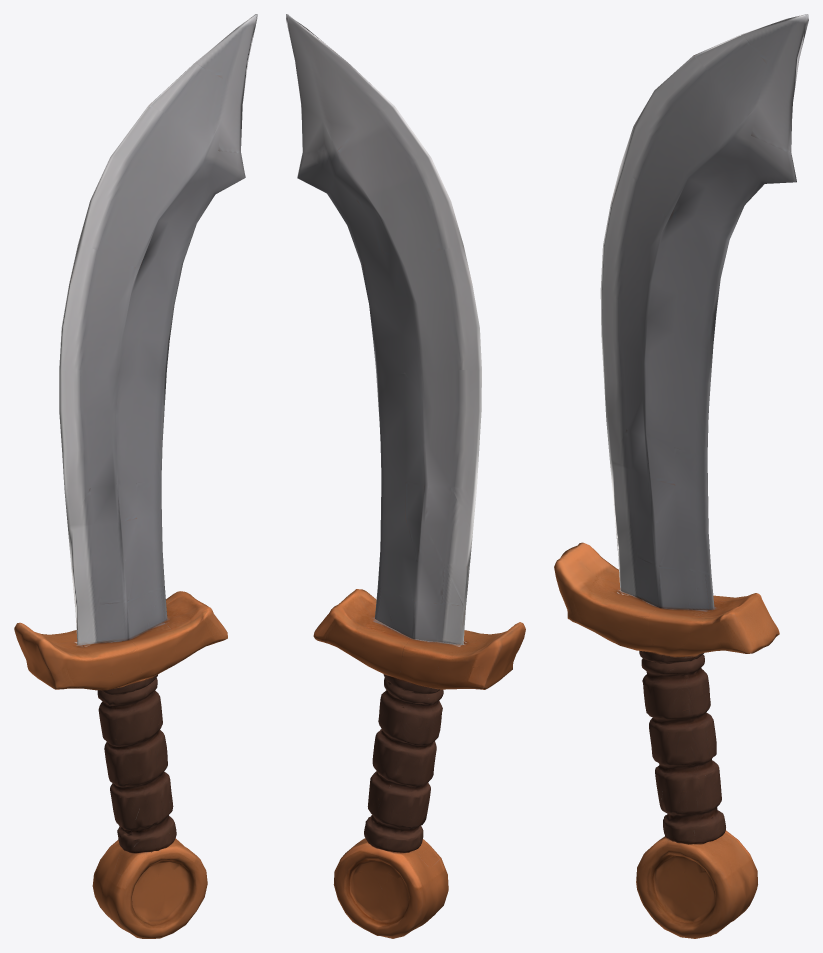
Rendered from 09_猎户弯锋.fbx.
3 renders of one model, left to right at view 1: azimuth 30°, elevation 25°; view 2: azimuth 150°, elevation 25°; view 3: azimuth 330°, elevation 25°, orthographic. The views are drawn at different scales.
Parts seen in each view (by area): view 1: Mesh_0; view 2: Mesh_0; view 3: Mesh_0.
Part boxes in pixels (x1=…): Mesh_0: x1=14, y1=14, x2=257, y2=938; Mesh_0: x1=286, y1=14, x2=525, y2=938; Mesh_0: x1=554, y1=14, x2=808, y2=938.
Size of the model in its own units: 54.62 by 200 by 14.19.
1 material, 1 textured.
